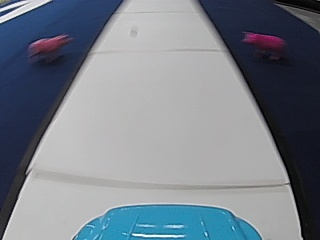pig: (27, 30, 72, 65), (242, 28, 286, 62)
